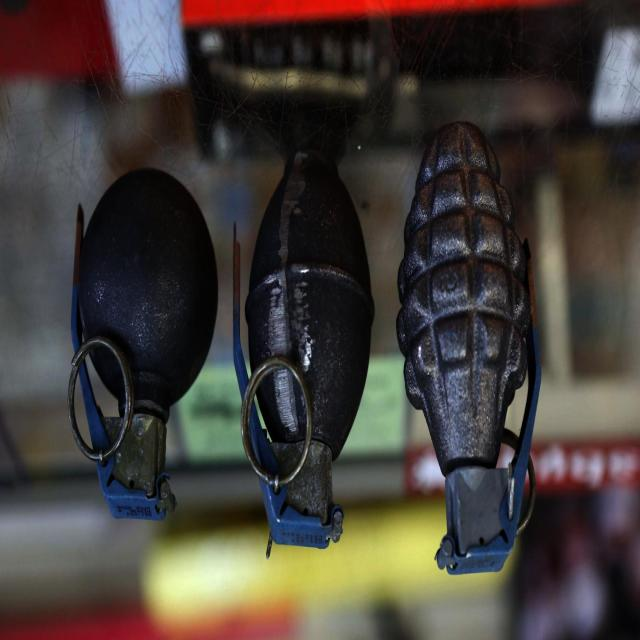grenade: (397, 121, 542, 576), (233, 146, 376, 560), (69, 171, 219, 520)
